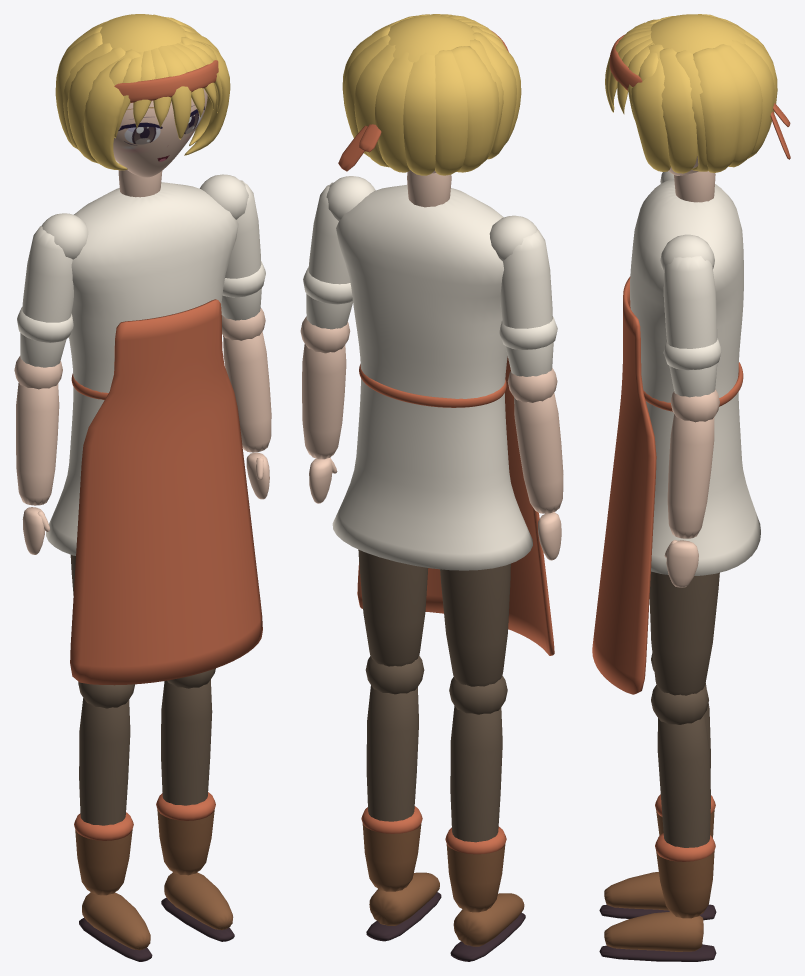
Rendered from tomo.glb.
The picture shows the model from 3 angles, left to right: view 1: azimuth 30°, elevation 25°; view 2: azimuth 150°, elevation 25°; view 3: azimuth 270°, elevation 25°; orthographic projection. The views are drawn at different scales.
Visible parts, largest first — view 1: tomo:body.mesh, tomo:head.mesh, tomo:shinL.mesh, tomo:shinR.mesh, tomo:armL.mesh, tomo:foreL.mesh, tomo:foreR.mesh, tomo:armR.mesh; view 2: tomo:body.mesh, tomo:head.mesh, tomo:shinL.mesh, tomo:shinR.mesh, tomo:armL.mesh, tomo:legL.mesh, tomo:foreL.mesh, tomo:foreR.mesh, tomo:legR.mesh, tomo:armR.mesh; view 3: tomo:body.mesh, tomo:head.mesh, tomo:shinR.mesh, tomo:armR.mesh, tomo:foreR.mesh, tomo:legR.mesh, tomo:shinL.mesh.
Boxes of the visible parts, left/top/right/bottom form: tomo:body.mesh: left=46, top=182, right=262, bottom=685; tomo:head.mesh: left=55, top=14, right=230, bottom=197; tomo:shinL.mesh: left=74, top=681, right=152, bottom=961; tomo:shinR.mesh: left=156, top=668, right=234, bottom=941; tomo:armL.mesh: left=17, top=213, right=88, bottom=367; tomo:foreL.mesh: left=14, top=356, right=62, bottom=554; tomo:foreR.mesh: left=222, top=307, right=271, bottom=499; tomo:armR.mesh: left=200, top=174, right=265, bottom=320; tomo:body.mesh: left=332, top=185, right=554, bottom=655; tomo:head.mesh: left=338, top=14, right=521, bottom=207; tomo:shinL.mesh: left=445, top=675, right=525, bottom=961; tomo:shinR.mesh: left=361, top=655, right=441, bottom=941; tomo:armL.mesh: left=489, top=215, right=557, bottom=376; tomo:legL.mesh: left=440, top=563, right=510, bottom=686; tomo:foreL.mesh: left=507, top=368, right=563, bottom=560; tomo:foreR.mesh: left=300, top=316, right=350, bottom=503; tomo:legR.mesh: left=358, top=549, right=428, bottom=666; tomo:armR.mesh: left=303, top=176, right=375, bottom=329; tomo:body.mesh: left=592, top=179, right=760, bottom=694; tomo:head.mesh: left=605, top=14, right=790, bottom=202; tomo:shinR.mesh: left=599, top=685, right=716, bottom=961; tomo:armR.mesh: left=660, top=234, right=721, bottom=397; tomo:foreR.mesh: left=664, top=389, right=719, bottom=587; tomo:legR.mesh: left=649, top=571, right=719, bottom=695; tomo:shinL.mesh: left=599, top=653, right=716, bottom=920.
Bounding box in the file's own units: 0.4589 × 1.58 × 0.3103.
Materials: 12 (1 with a texture image).
